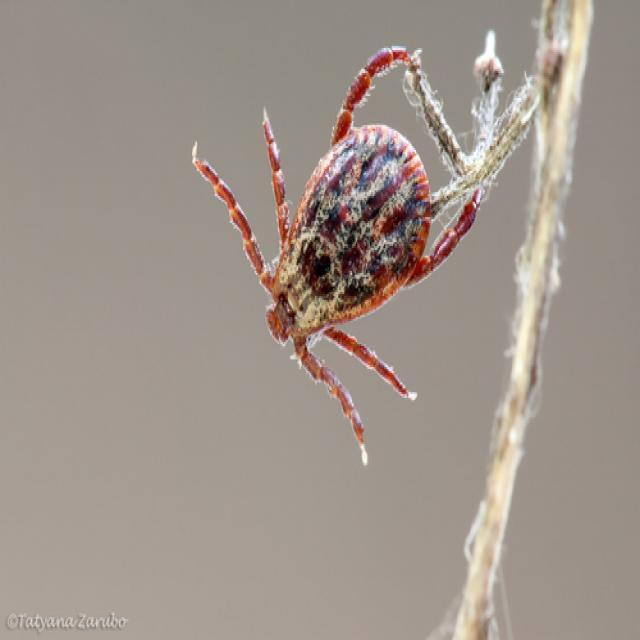Dermacentor Reticulatus-M: (192, 46, 481, 465)
